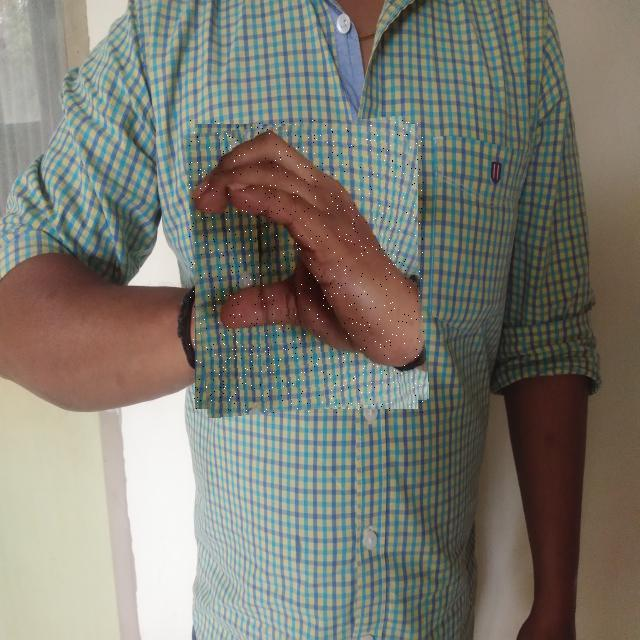C: (189, 120, 424, 413)
